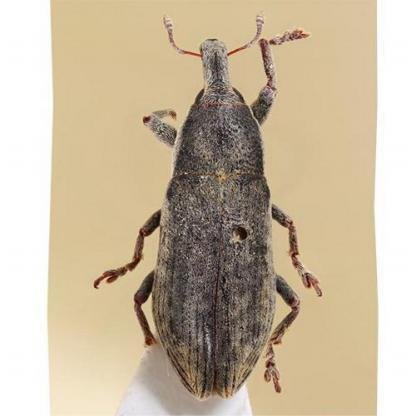rice-bug: (132, 27, 310, 405)
